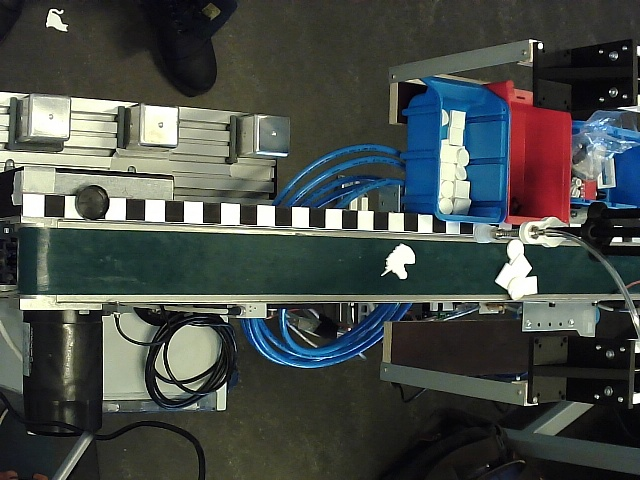unicorn: (381, 243, 416, 280)
